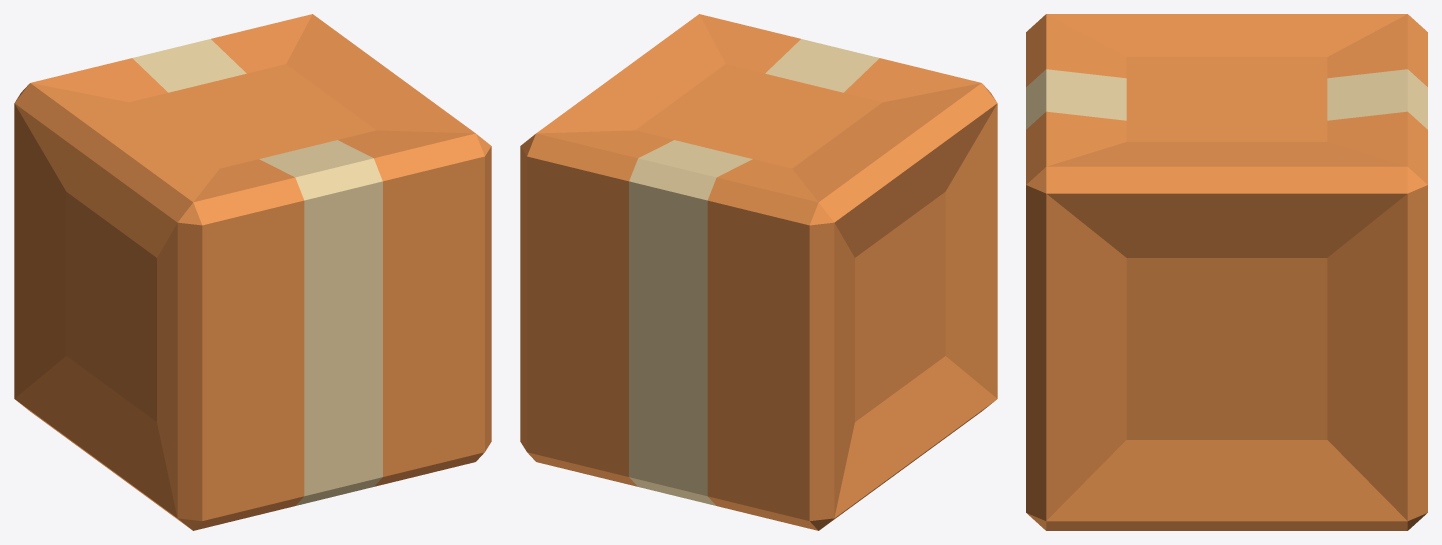
Rendered from SM_CardBoxB.glb.
The picture shows the model from 3 angles, left to right: view 1: azimuth 30°, elevation 25°; view 2: azimuth 150°, elevation 25°; view 3: azimuth 270°, elevation 25°; orthographic projection. The views are drawn at different scales.
Visible parts, largest first — view 1: part_00, part_01; view 2: part_00, part_01; view 3: part_00, part_01.
Part boxes in pixels (x1,y1,x2,y2): part_00: (14,14,491,530); part_01: (132,39,382,505); part_00: (520,14,997,530); part_01: (629,39,879,505); part_00: (1026,14,1427,530); part_01: (1026,69,1427,129).
Size of the model in its own units: 0.5 by 0.5 by 0.5.
